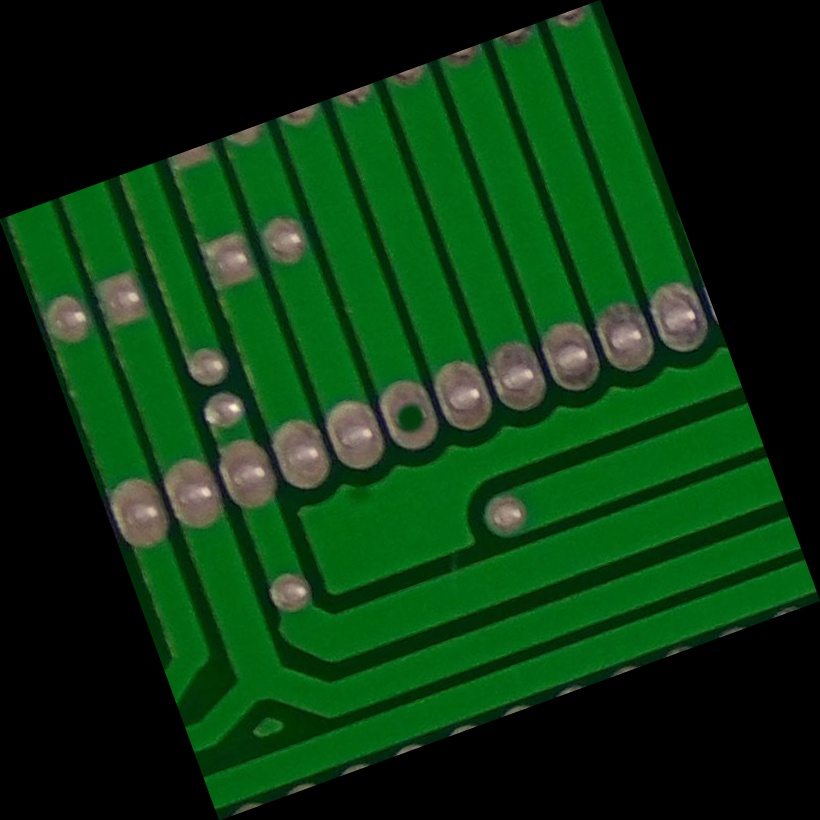missing_hole: (366, 364, 454, 457)
